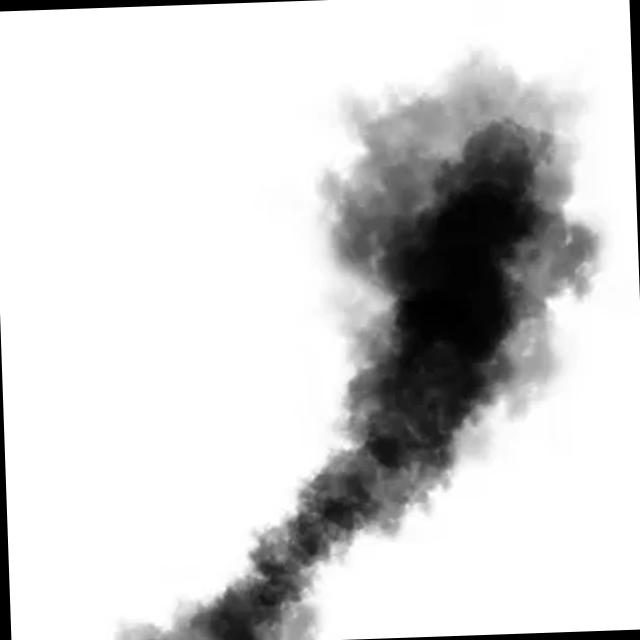Smoke: (96, 43, 614, 634)
